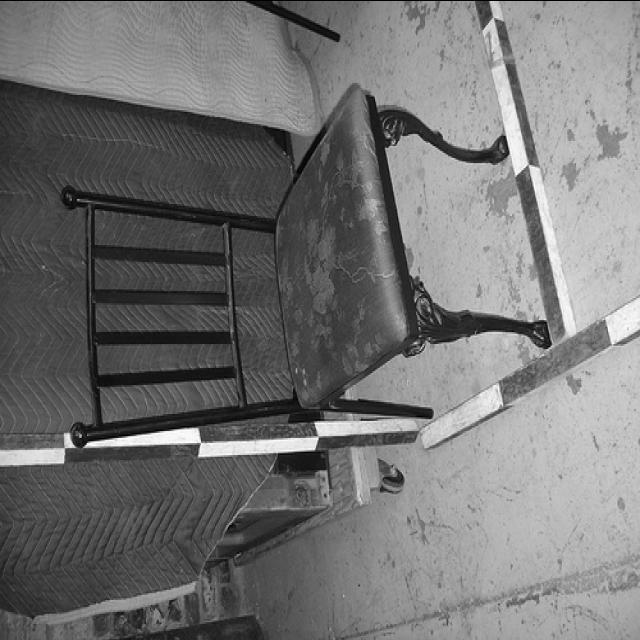chair: (62, 87, 550, 447)
